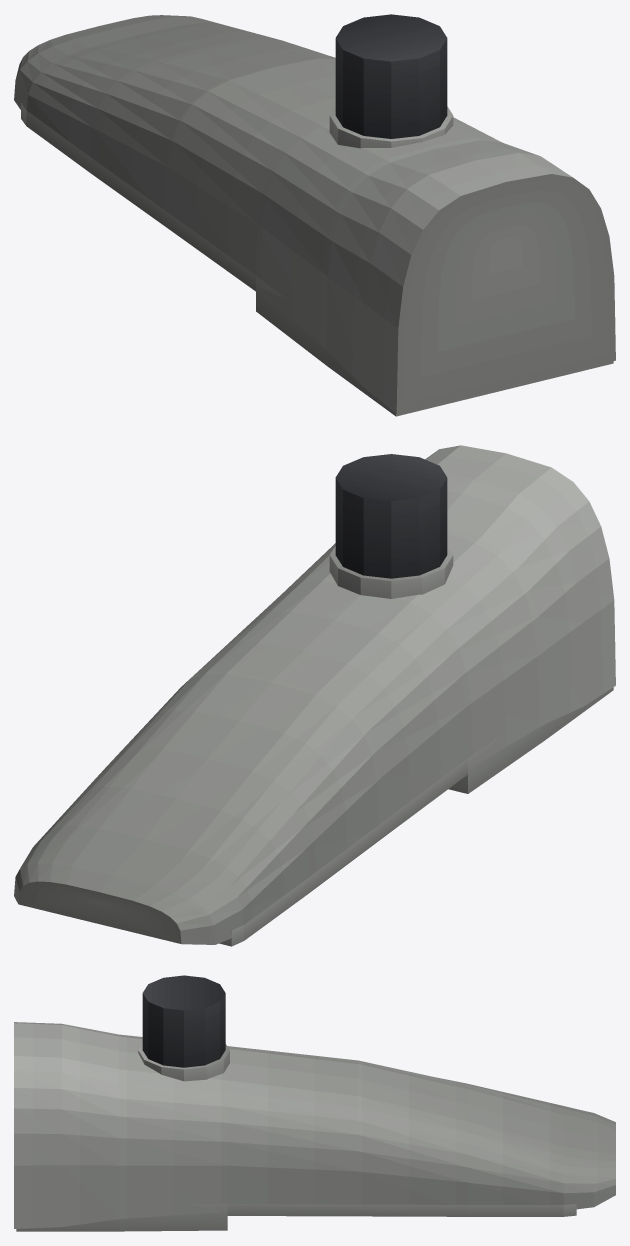
The model's file is streetlight_creexspsingle.obj.
3 renders of one model, top to bottom at view 1: azimuth 30°, elevation 25°; view 2: azimuth 150°, elevation 25°; view 3: azimuth 270°, elevation 25°, orthographic. The views are drawn at different scales.
Parts seen in each view (by area): view 1: fixture; view 2: fixture; view 3: fixture.
Boxes of the visible parts, x1,y1,x2,y2 form: fixture: [14, 14, 615, 416]; fixture: [14, 445, 615, 946]; fixture: [14, 975, 615, 1231].
Bounding box in the file's own units: 0.2688 × 0.315 × 0.8625.
